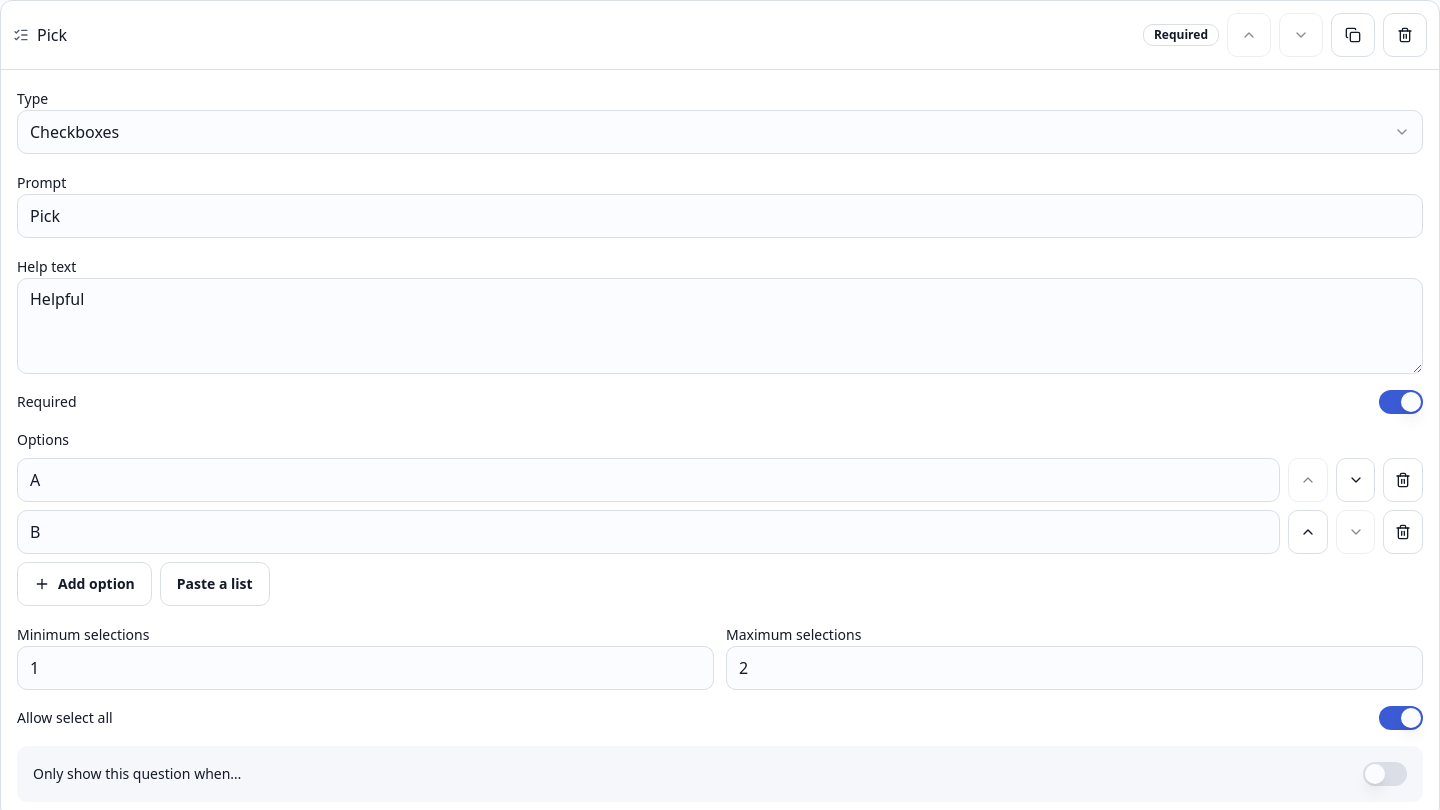
Test case: QuestionCard › drops unused metadata when the type changes
This screenshot has width=1440, height=810.
What coordinates should you click on to do the following:
click the dropdown named "Question type"
I would click on:
 (75, 132)
Its box is [17, 110, 1423, 154].
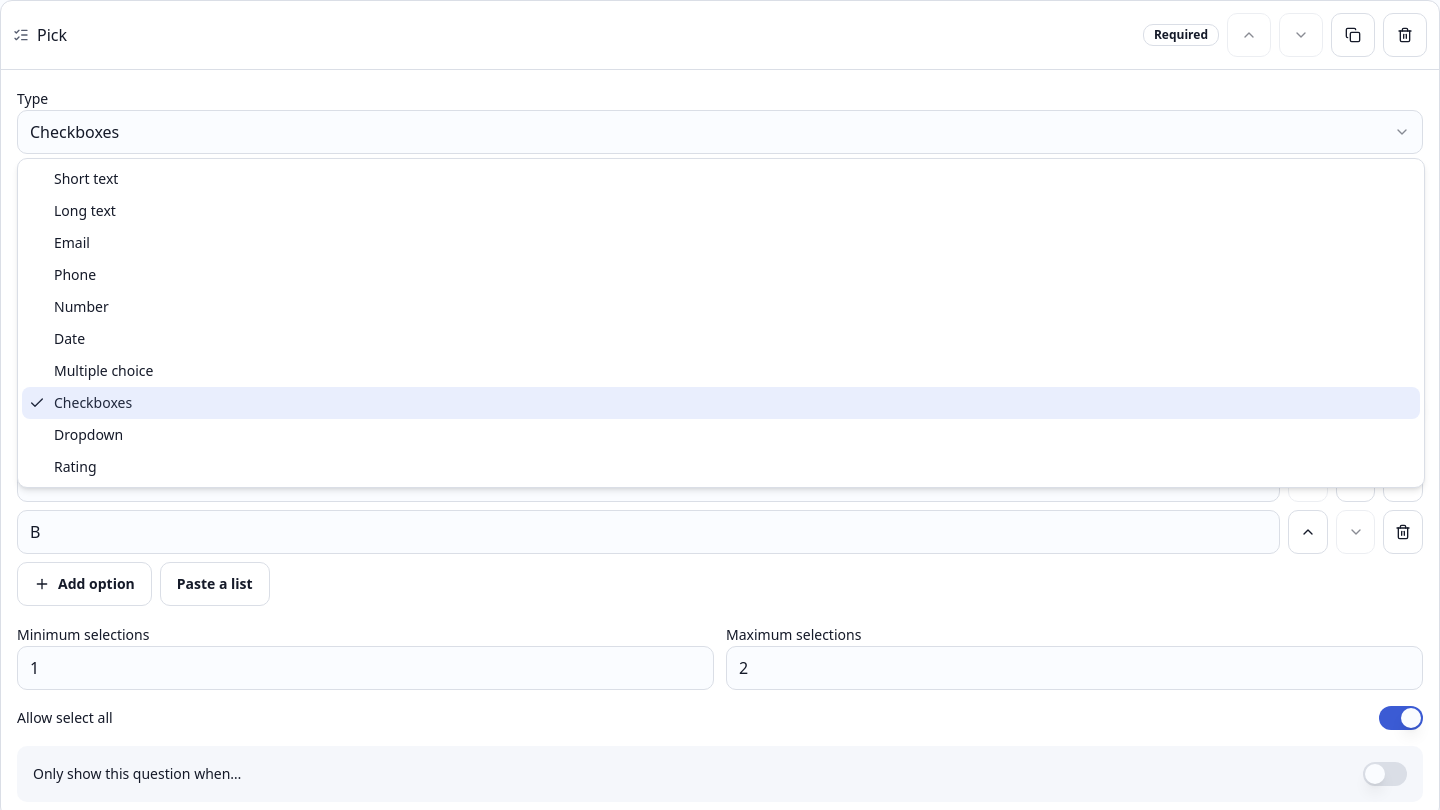
What coordinates should you click on to do the following:
click the option "Email"
I would click on:
 (72, 242)
Its box is [54, 233, 90, 252].
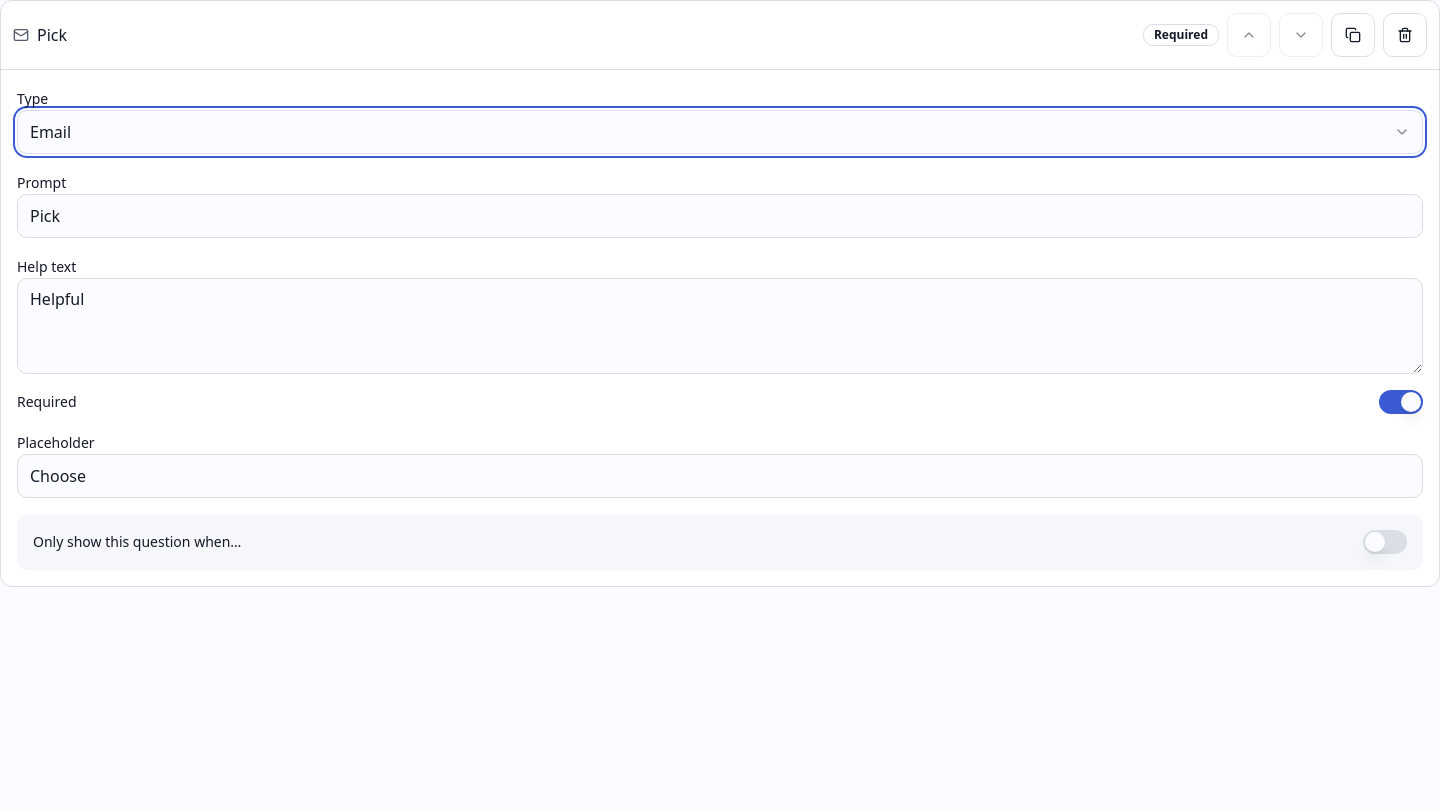
Check: the text "Pick" is shown, box [37, 23, 67, 47]
Check: the field labelled "Placeholder" holds "Choose", box [17, 454, 1423, 498]
